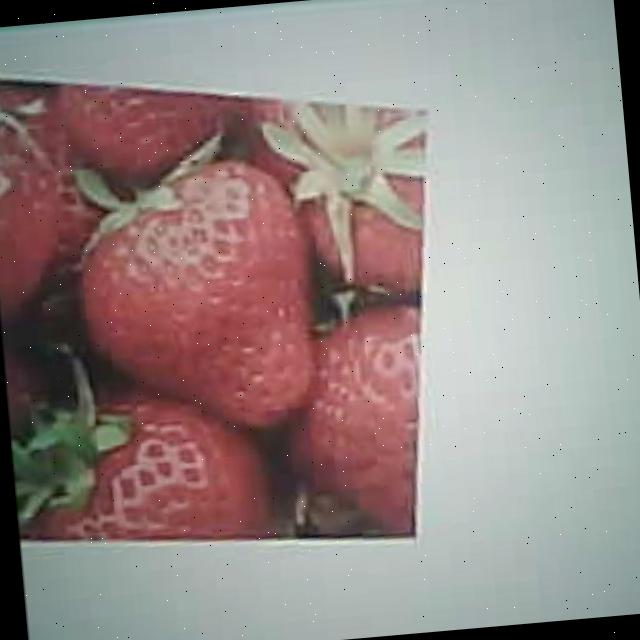strawberry: (66, 153, 320, 438)
